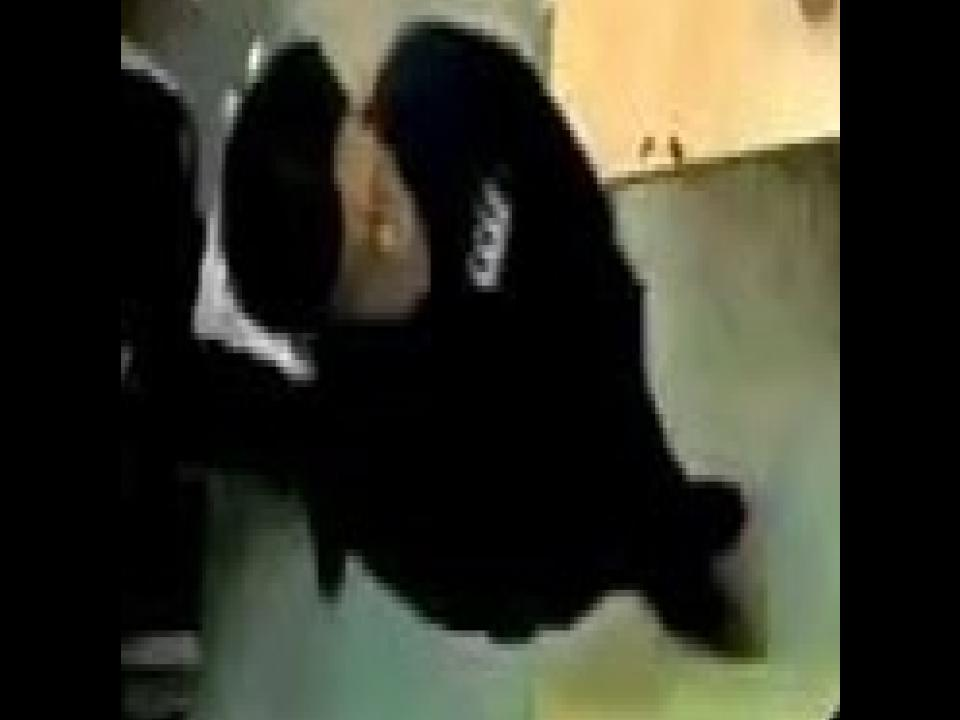name-tag: (462, 175, 514, 299)
